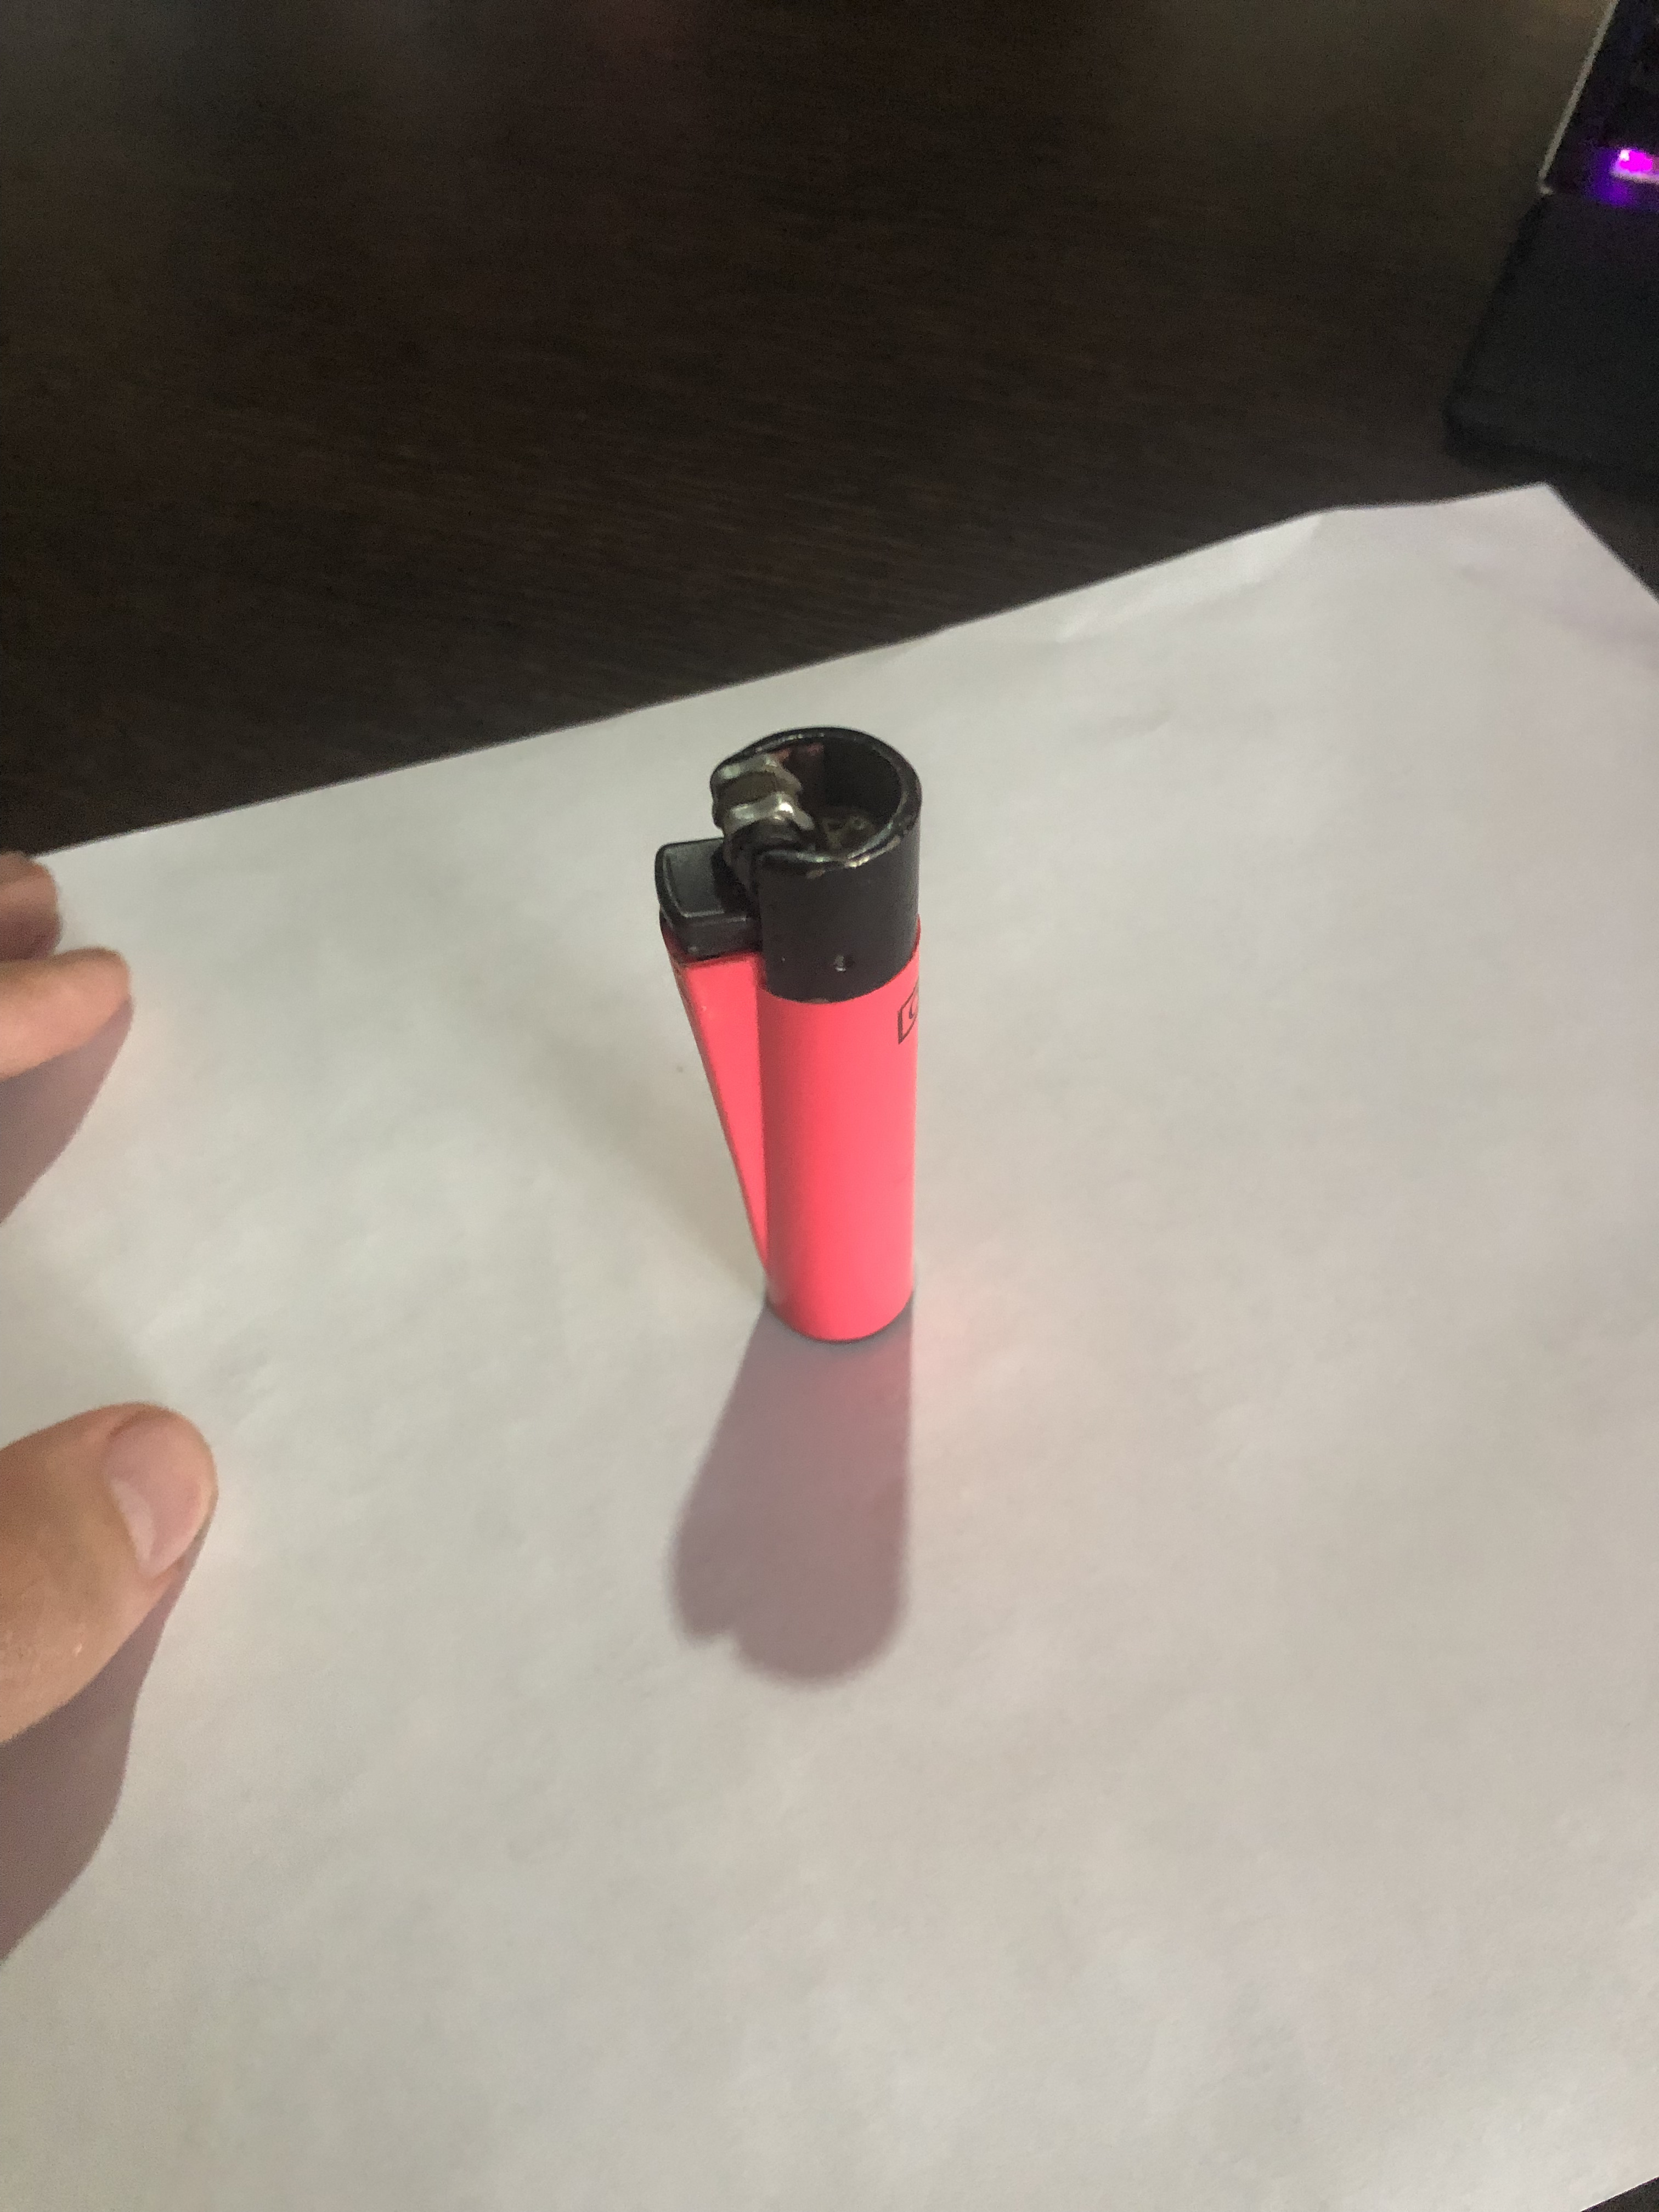Mechero: (634, 711, 979, 1360)
